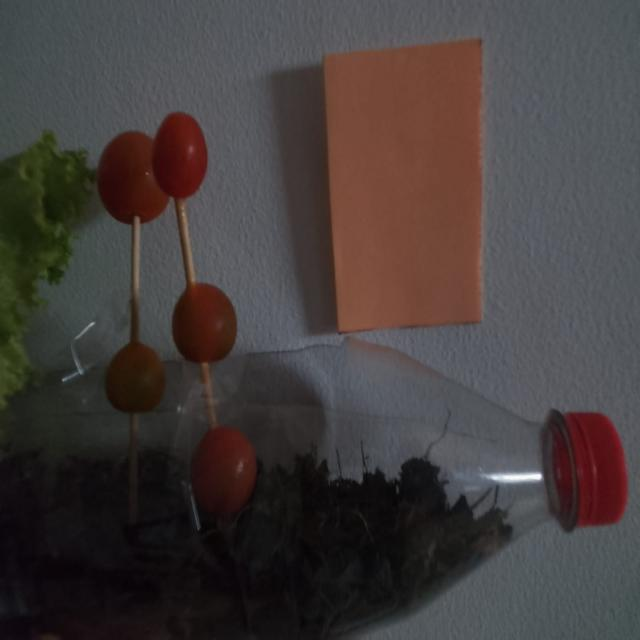card: (324, 39, 482, 332)
fruit_maturation: (97, 131, 169, 225), (191, 425, 257, 516), (172, 283, 237, 362)
fully_grown: (152, 112, 207, 199), (105, 342, 165, 413)
